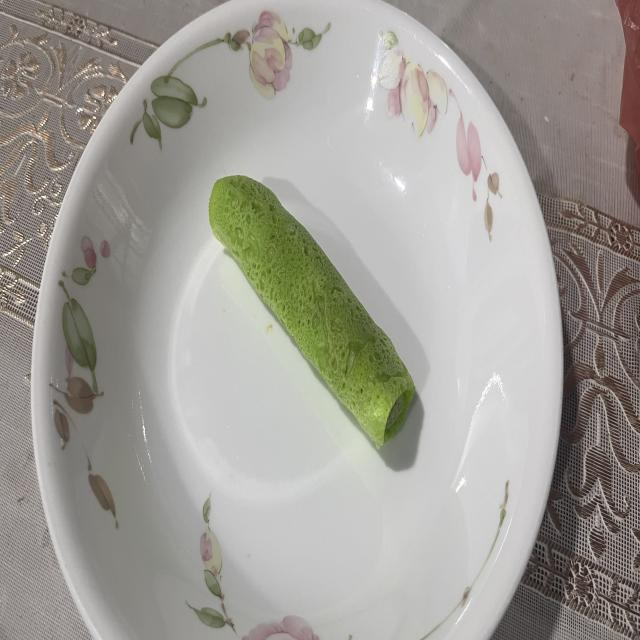Kuih-Ketayap: (209, 176, 415, 447)
